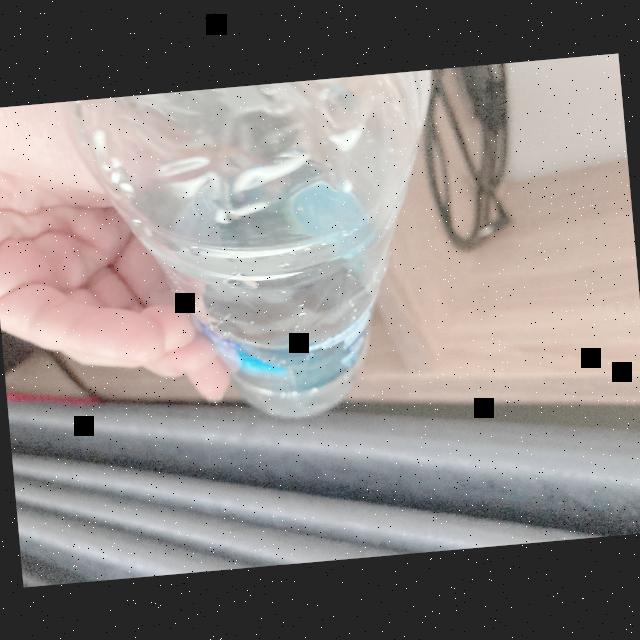plastic_bottle: (44, 68, 482, 444)
